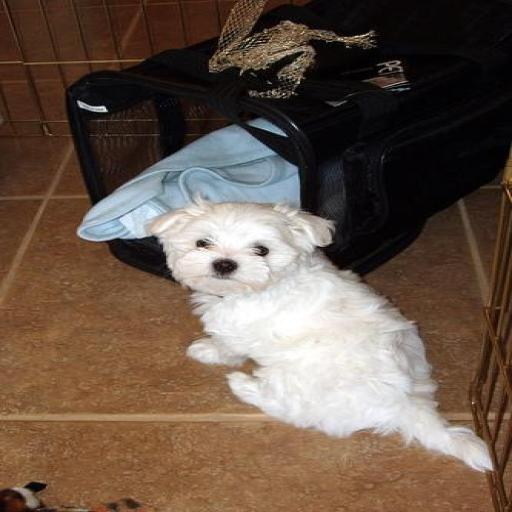dog_face: (140, 200, 346, 295)
